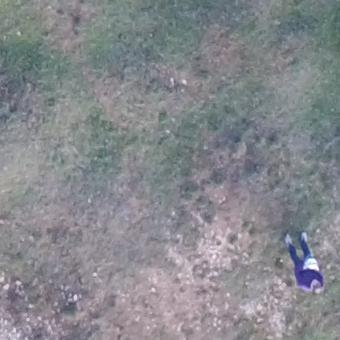human: (280, 229, 326, 293)
